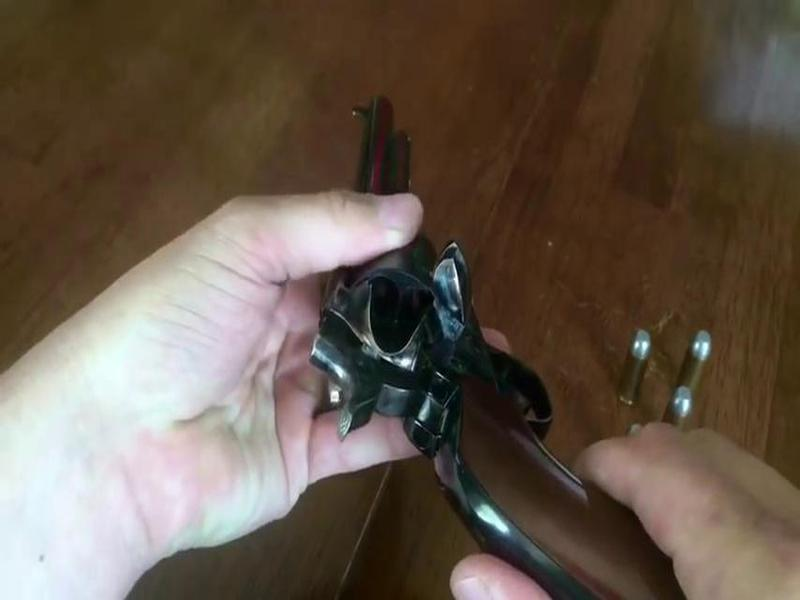Revolver: (305, 73, 520, 570)
